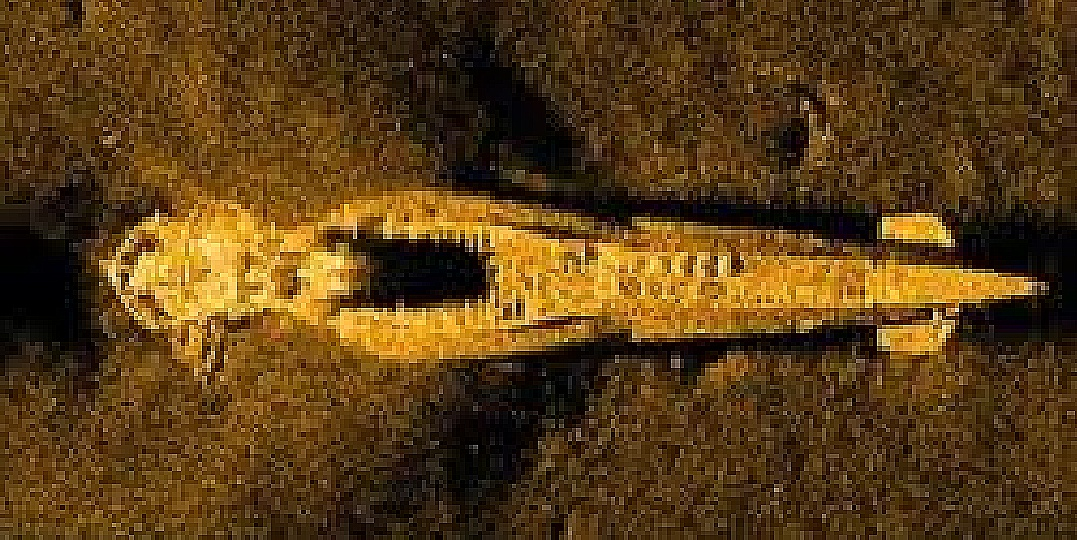ship: (89, 187, 1052, 391)
